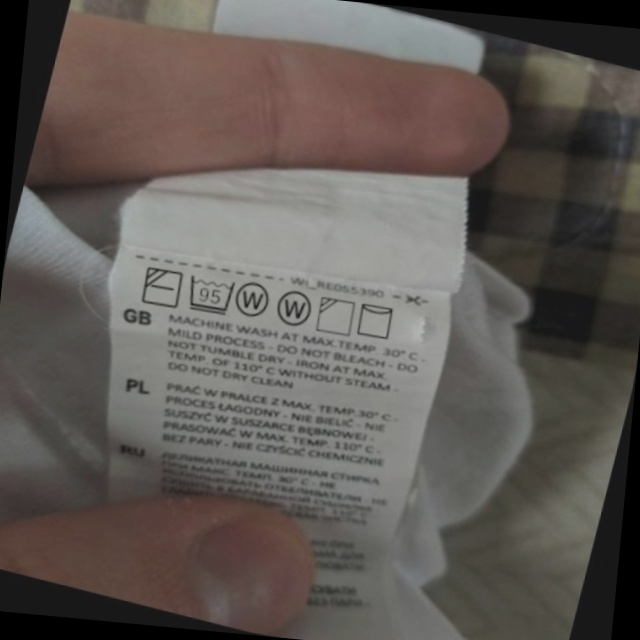95C: (180, 267, 242, 321)
dry_flat_in_shade: (135, 259, 189, 315)
line_dry: (350, 295, 402, 346)
shade_dry: (310, 290, 362, 342)
wet_clean: (230, 272, 279, 325), (270, 283, 319, 335)
